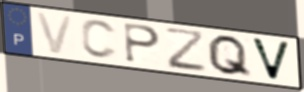C: (80, 18, 120, 61)
P: (122, 22, 163, 66)
Q: (206, 33, 254, 79)
V: (248, 36, 293, 83), (34, 11, 76, 56)
Z: (162, 27, 209, 74)
